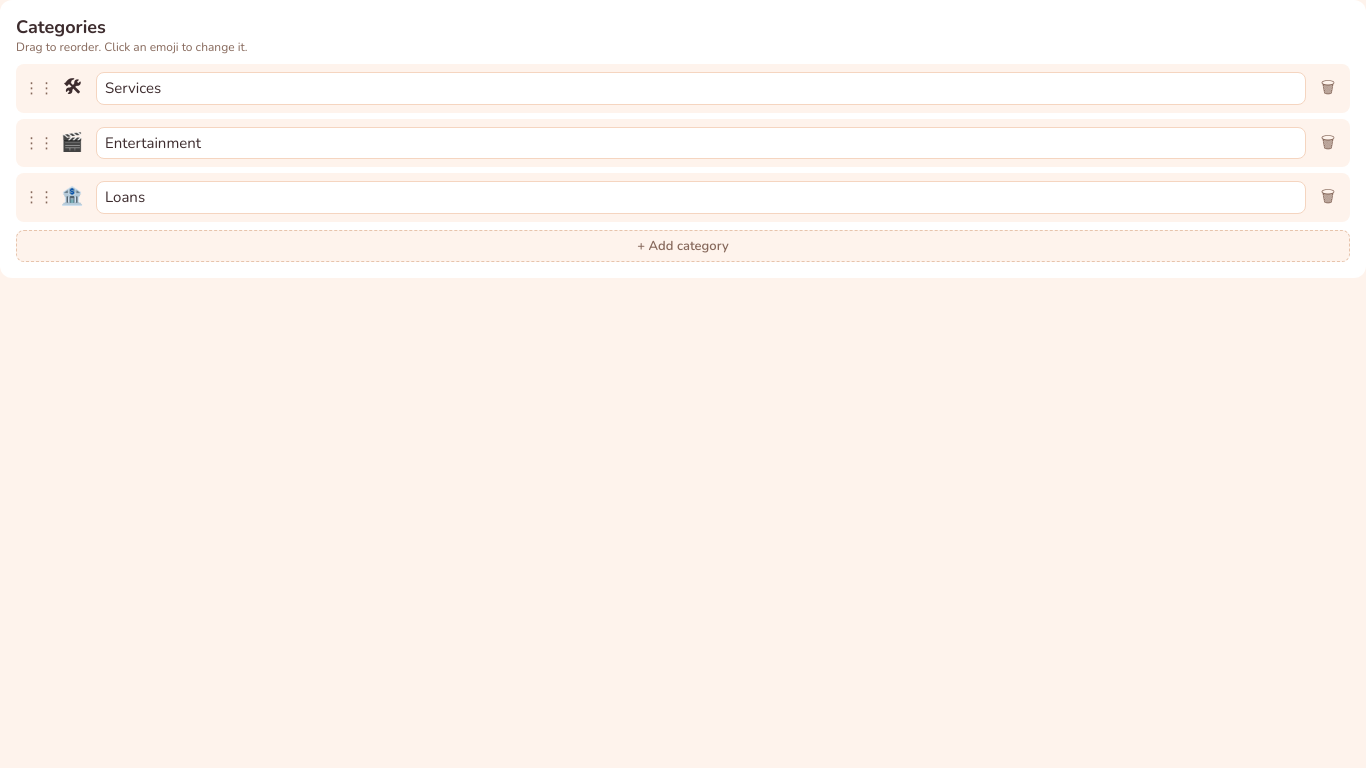
Scenario: CategoriesEditor › delete on a category with items shows the destination dropdown
The image size is (1366, 768).
expect the field showing "Services" is shown: met, box [96,72,1306,105]
Click the button named "delete services": (1328,88) [1314,76,1342,100]
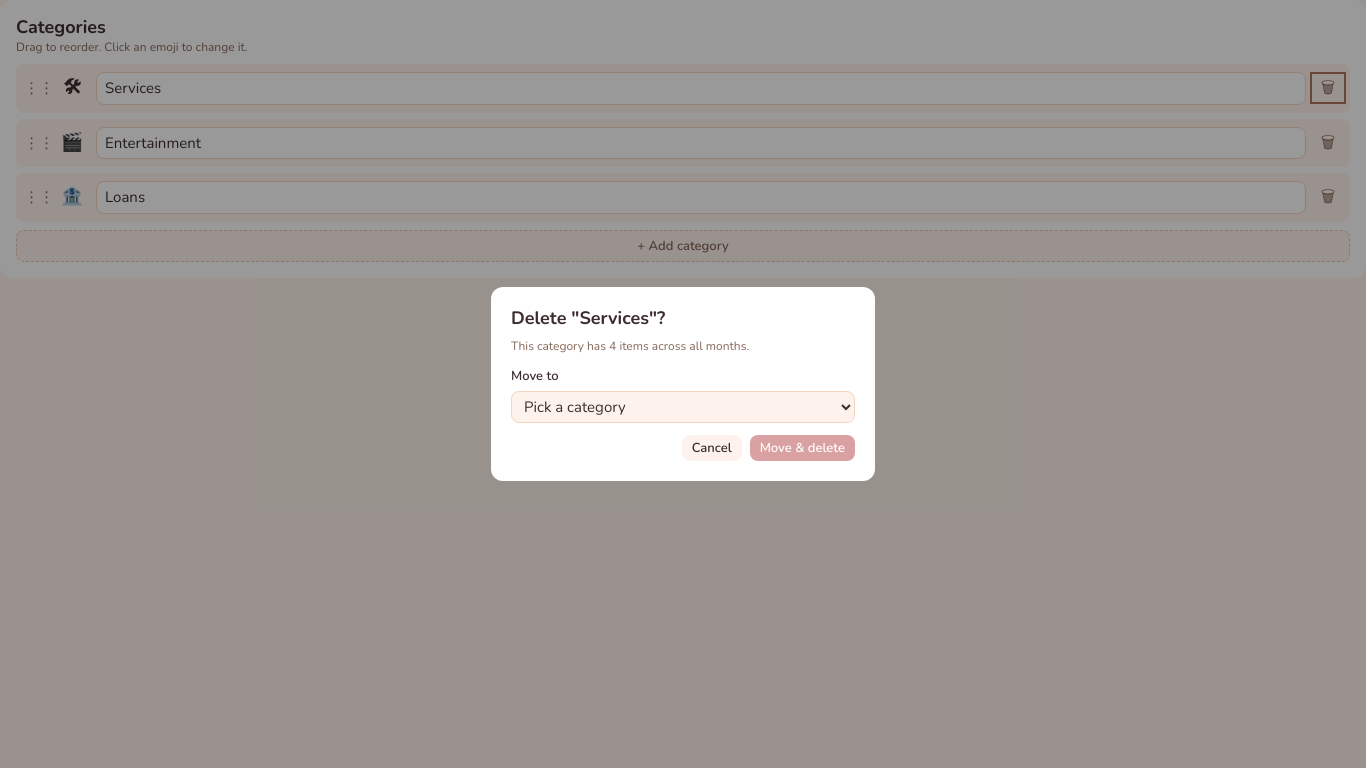
expect the text "This category has 4 items across all months." is shown: met, box [511,338,749,354]
expect the dropdown labelled "Move to" is shown: met, box [511,391,855,423]
